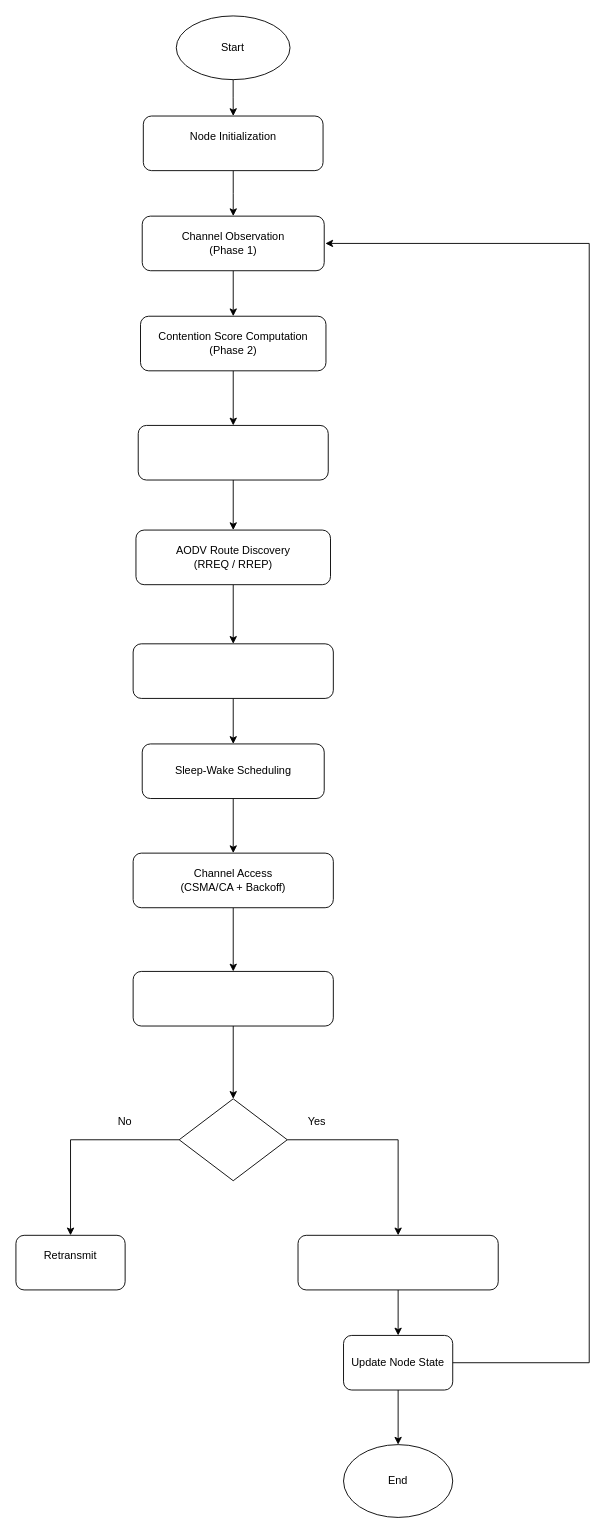
The diagram is 612 pixels wide and 1533 high, and some of its shapes have lost their labels. The centre of each missing label's shape, as x and y in pixels:
"ACK Received?" goes at point (232, 1139).
"Adaptive Packet Transmission" goes at point (232, 998).
"Duty Cycle Adjustment" goes at point (232, 670).
"Four-State Contention Classification" goes at point (232, 452).
"Update Routing + Energy" goes at point (397, 1262).
